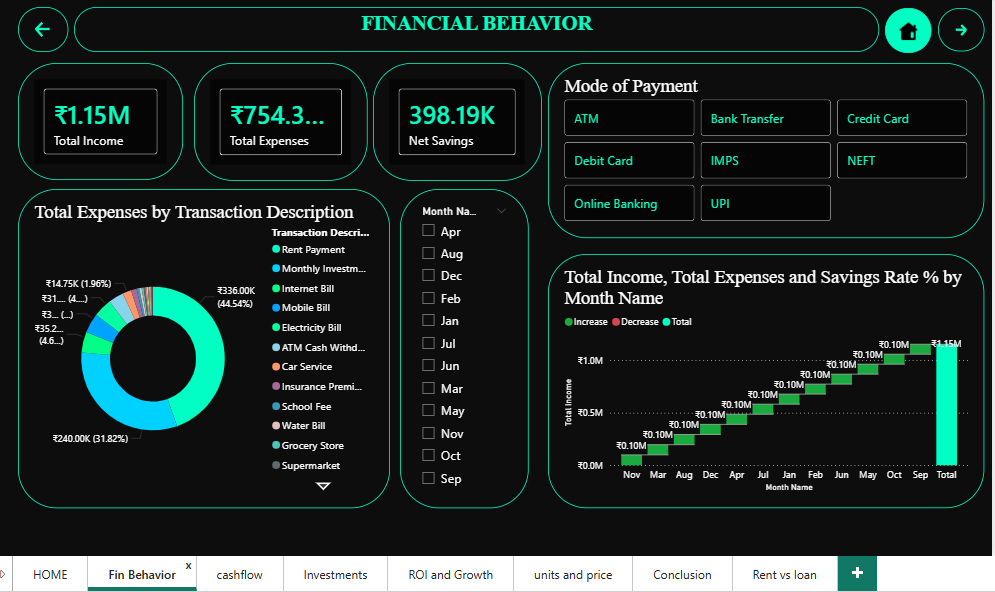

Layout of this report page (visuals, bound fields, positions):
{"tool":"powerbi","page":{"name":"Fin Behavior","canvas":[1280,720],"ordinal":1},"visuals":[{"type":"cardVisual","fields":{"Data":["BankStatement.Total Income"]},"box":[23.5,84,213.3,151.2],"z":0},{"type":"donutChart","fields":{"Category":["BankStatement.Transaction Description"],"Y":["_Measures.Total Expenses"]},"box":[23.5,246.9,480.4,411.5],"z":1000},{"type":"waterfallChart","fields":{"Category":["DateTable.Month Name"],"Y":["_Measures.Total Income"]},"box":[707.2,330.9,562.7,327.6],"z":2000},{"type":"advancedSlicerVisual","fields":{"Values":["BankStatement.Mode of Payment"]},"box":[706.7,84.4,562.7,225.8],"z":3000},{"type":"slicer","fields":{"Values":["DateTable.Month Name"]},"box":[515.7,246.9,166.3,411.5],"z":4000},{"type":"cardVisual","fields":{"Data":["_Measures.Total Expenses"]},"box":[250.7,83.6,224,152],"z":5000},{"type":"cardVisual","fields":{"Data":["_Measures.Net Savings"]},"box":[480.9,83.6,217.8,152],"z":6000},{"type":"textbox","box":[96,11.6,1039.1,57.8],"z":7000},{"type":"actionButton","box":[1209.8,13.3,59.6,56],"z":8000},{"type":"actionButton","box":[1141.3,12.4,60.4,57.8],"z":9000},{"type":"actionButton","box":[23.1,11.6,64.9,57.8],"z":10000}]}

Visuals, with their boxes on the page's 1280x720 design canvas (x1, y1, x2, y2). These are canvas units, not pixel positions in the 995x592 screenshot, which may show the page scaled, cropped or inside an application window:
cardVisual - BankStatement.Total Income: BBox(24, 84, 237, 235)
donutChart - BankStatement.Transaction Description x _Measures.Total Expenses: BBox(24, 247, 504, 658)
waterfallChart - DateTable.Month Name x _Measures.Total Income: BBox(707, 331, 1270, 658)
advancedSlicerVisual - BankStatement.Mode of Payment: BBox(707, 84, 1269, 310)
slicer - DateTable.Month Name: BBox(516, 247, 682, 658)
cardVisual - _Measures.Total Expenses: BBox(251, 84, 475, 236)
cardVisual - _Measures.Net Savings: BBox(481, 84, 699, 236)
textbox: BBox(96, 12, 1135, 69)
actionButton: BBox(1210, 13, 1269, 69)
actionButton: BBox(1141, 12, 1202, 70)
actionButton: BBox(23, 12, 88, 69)
